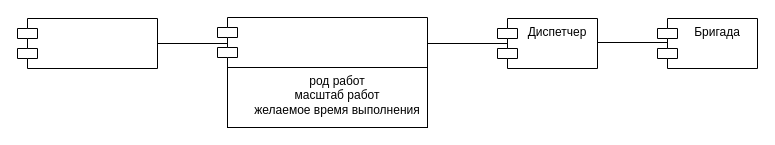
The diagram is 775 pixels wide and 145 high, and some of its shapes have lost their labels. Here are the shapes that lost their labels. From the top down, the centre of each, then its label:
the point at 87,43: Квартиросъемщик
the point at 322,42: Заявка
